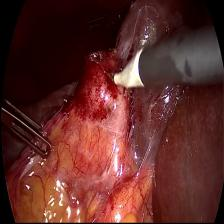Grasper: (86, 7, 122, 33)
Hook: (0, 98, 56, 169), (106, 48, 150, 104)
